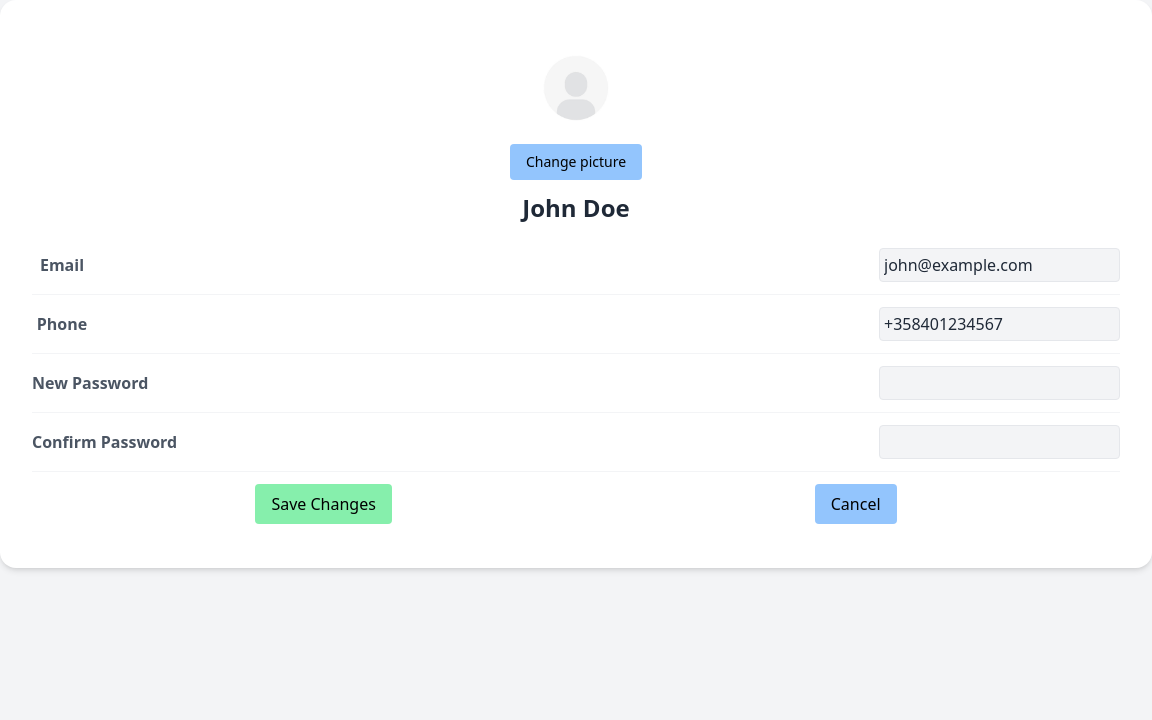
Test: EditPage validation › shows error when phone is empty
The image size is (1152, 720).
Clear the field labelled "Phone" at (1000,324), box [879, 307, 1120, 341]
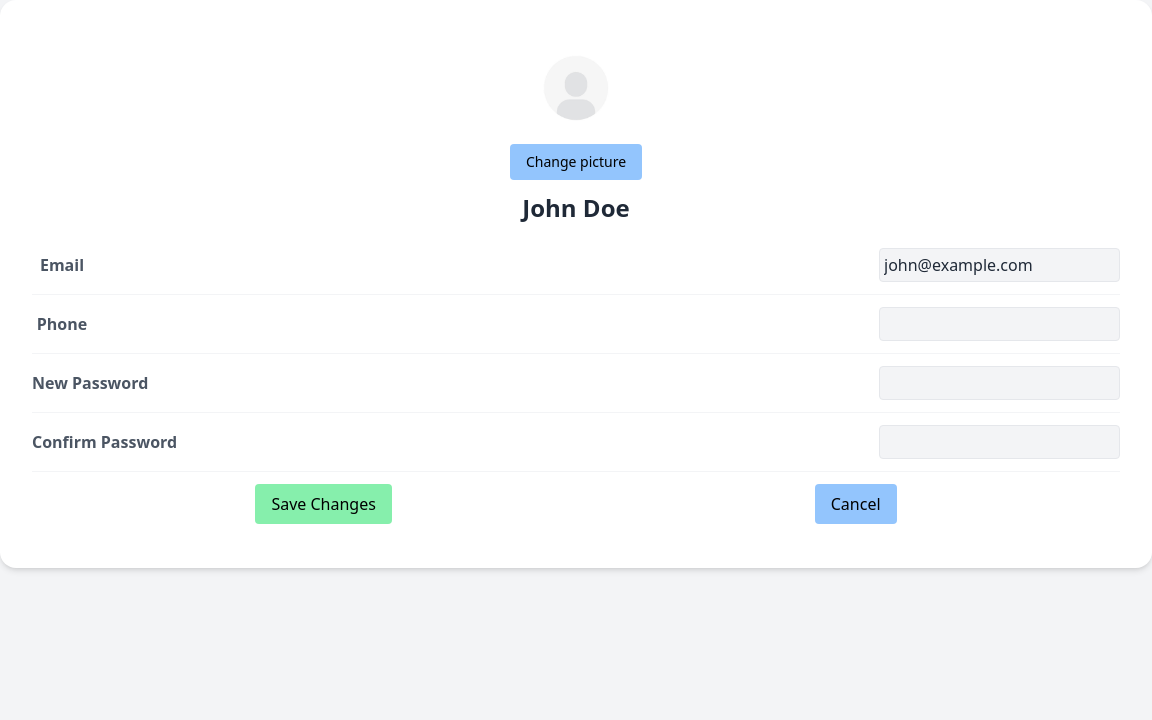
Click the button showing "Save Changes" at (324,504), box [255, 484, 392, 524]
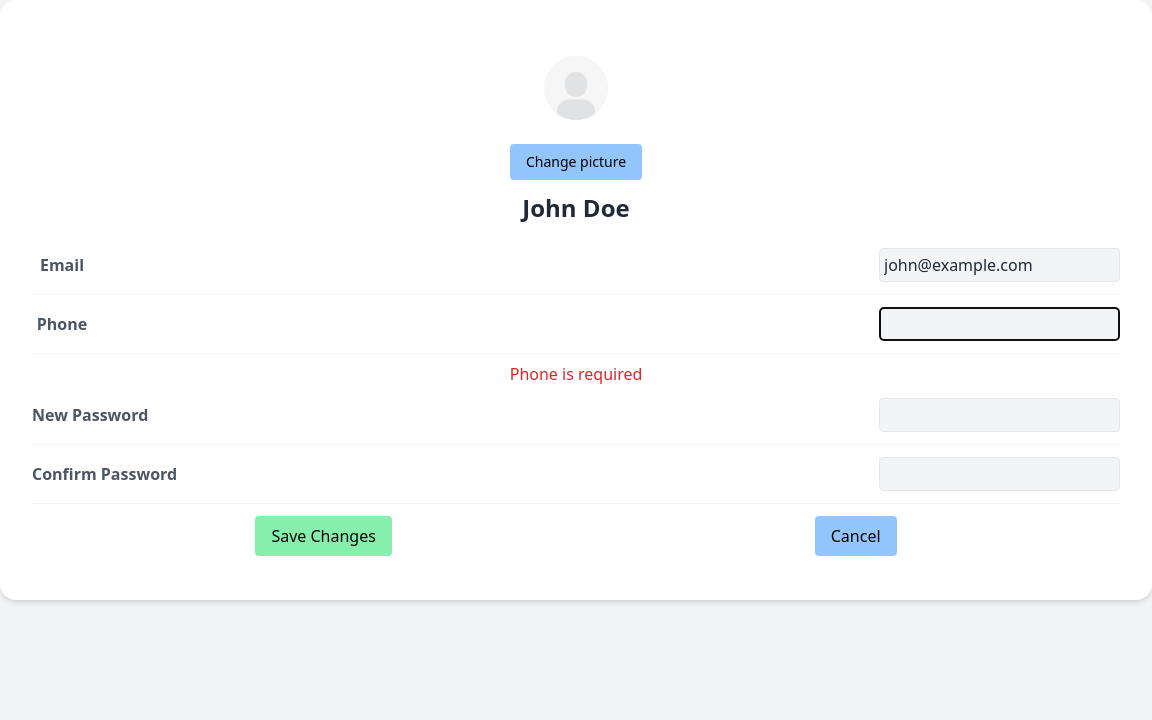
Result: the text "Phone is required" is shown at [510, 363, 642, 385]
